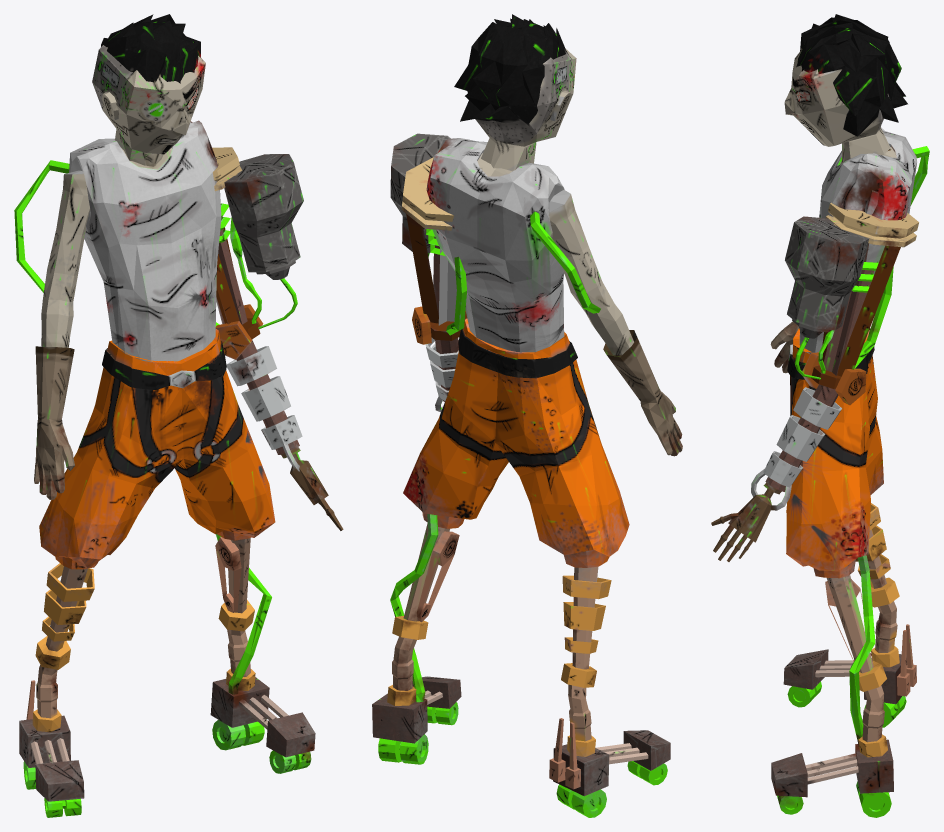
The model's file is CyborgFINALAnimation_000001.obj.
3 renders of one model, left to right at view 1: azimuth 30°, elevation 25°; view 2: azimuth 150°, elevation 25°; view 3: azimuth 270°, elevation 25°, orthographic. The views are drawn at different scales.
Visible parts, largest first — view 1: CyborgMesh_Cube.002; view 2: CyborgMesh_Cube.002; view 3: CyborgMesh_Cube.002.
Boxes of the visible parts, x1=… form: CyborgMesh_Cube.002: x1=14, y1=14, x2=343, y2=817; CyborgMesh_Cube.002: x1=372, y1=14, x2=682, y2=817; CyborgMesh_Cube.002: x1=711, y1=14, x2=929, y2=817.
Bounding box in the file's own units: 3.61 × 9.62 × 2.57.
